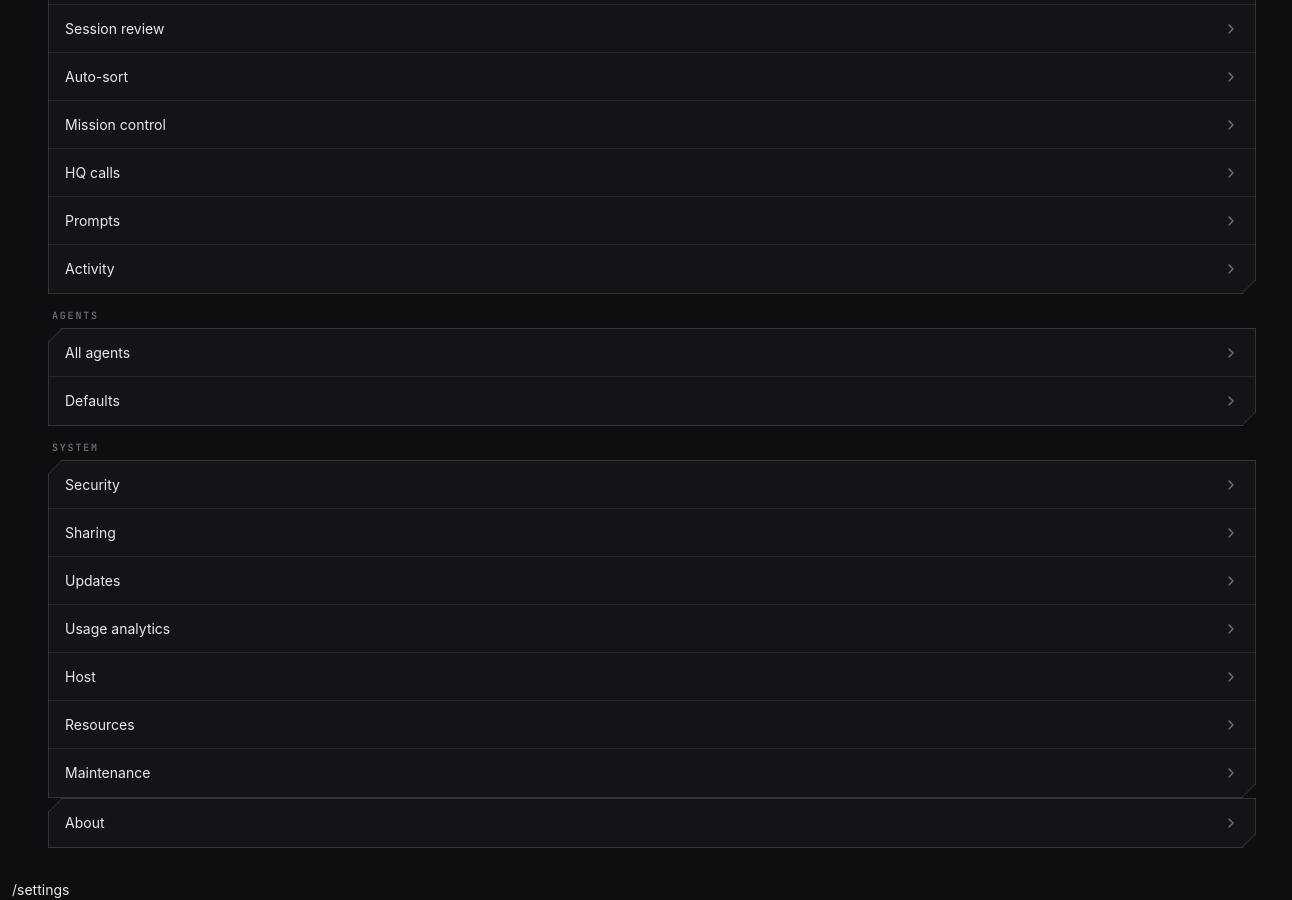
it: phone: bare /settings is the grouped index, and a section opens full-width with a back link (#956)
(page scrolled)
Expected: the text with test id "location" reads "/settings", 12,881 -> 69,898
Step 1. Click the link "Updates" → click(93, 580), box 49,557 -> 1255,605
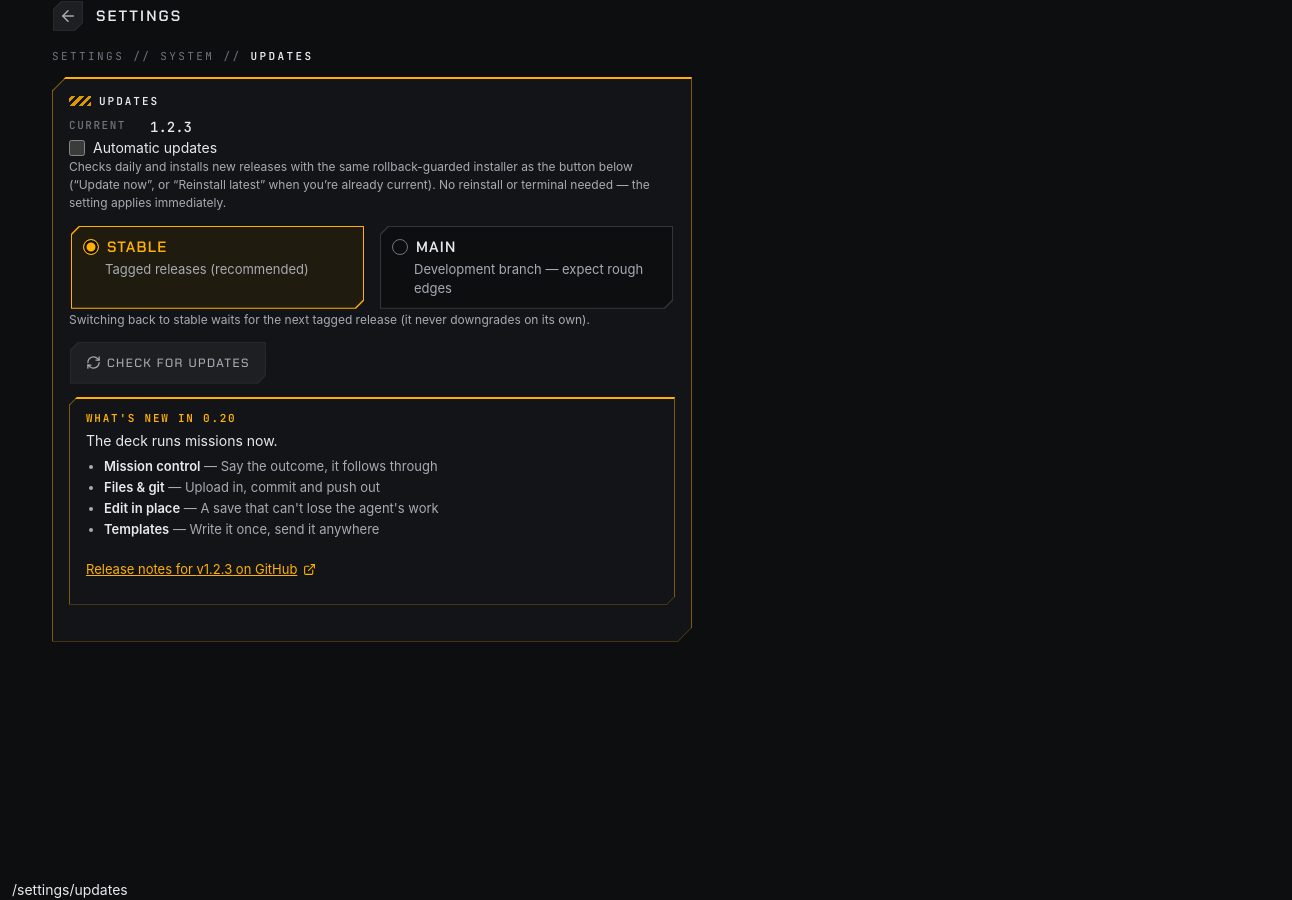
Expected: the text with test id "location" reads "/settings/updates", 12,881 -> 128,898
Expected: the heading "Updates" is shown, 99,94 -> 159,108
